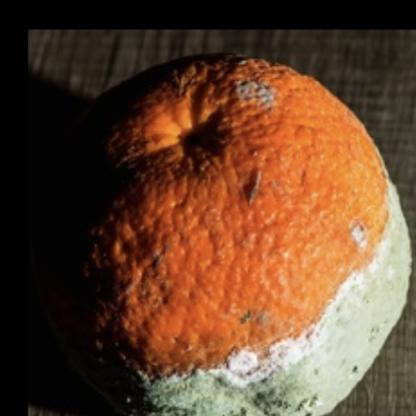rotten: (51, 49, 416, 416)
